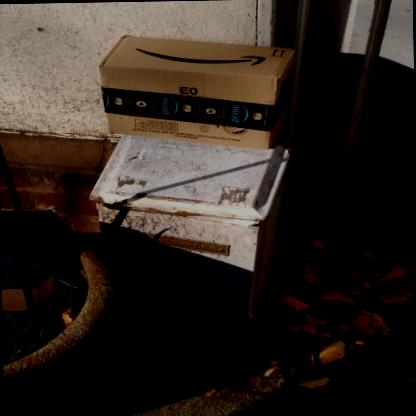box: (100, 31, 298, 151)
